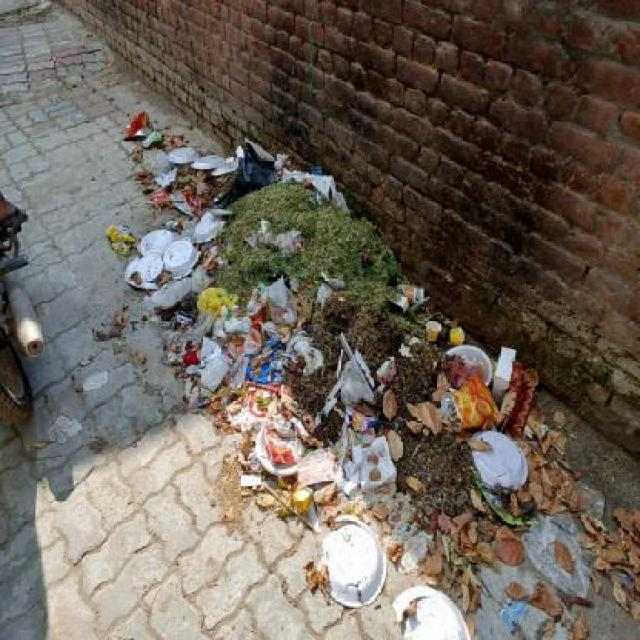garbage: (319, 320, 640, 639), (126, 108, 438, 320), (163, 325, 318, 594), (91, 303, 125, 356), (105, 209, 132, 256)
